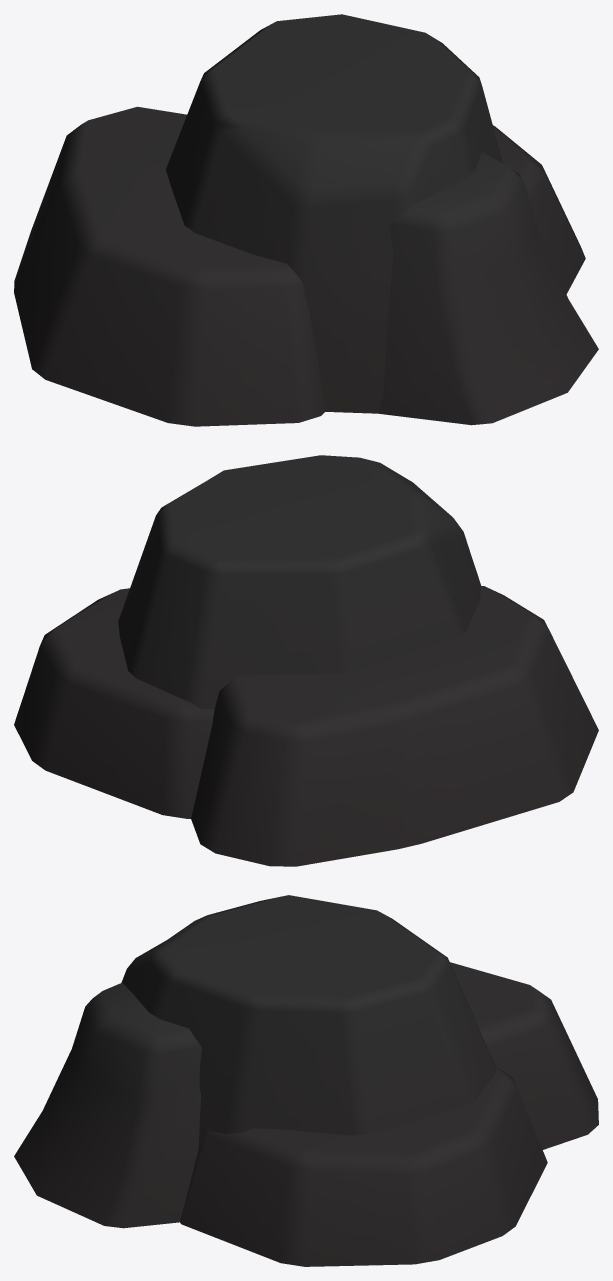
Rendered from inferno-rock-small-003.glb.
3 renders of one model, top to bottom at view 1: azimuth 30°, elevation 25°; view 2: azimuth 150°, elevation 25°; view 3: azimuth 270°, elevation 25°, orthographic. The views are drawn at different scales.
Visible parts, largest first — view 1: RockSmall_003; view 2: RockSmall_003; view 3: RockSmall_003.
Part boxes in pixels (<box>): RockSmall_003: <box>14,14,598,426</box>; RockSmall_003: <box>14,455,598,866</box>; RockSmall_003: <box>14,895,598,1266</box>.
Size of the model in its own units: 3.66 by 1.5 by 3.76.
1 material, 1 textured.
